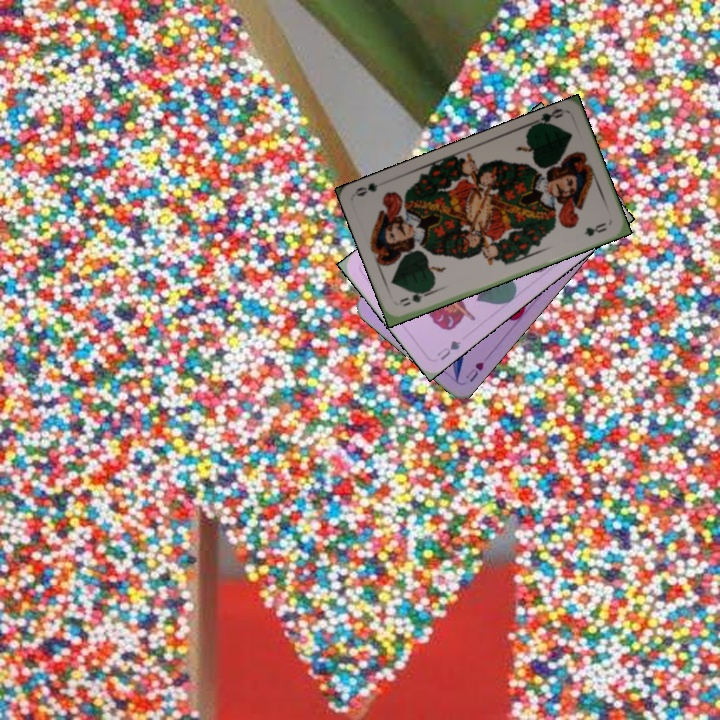GO: (528, 104, 567, 129), (399, 285, 435, 309)
GU: (433, 336, 463, 363)
HU: (461, 357, 487, 385)
